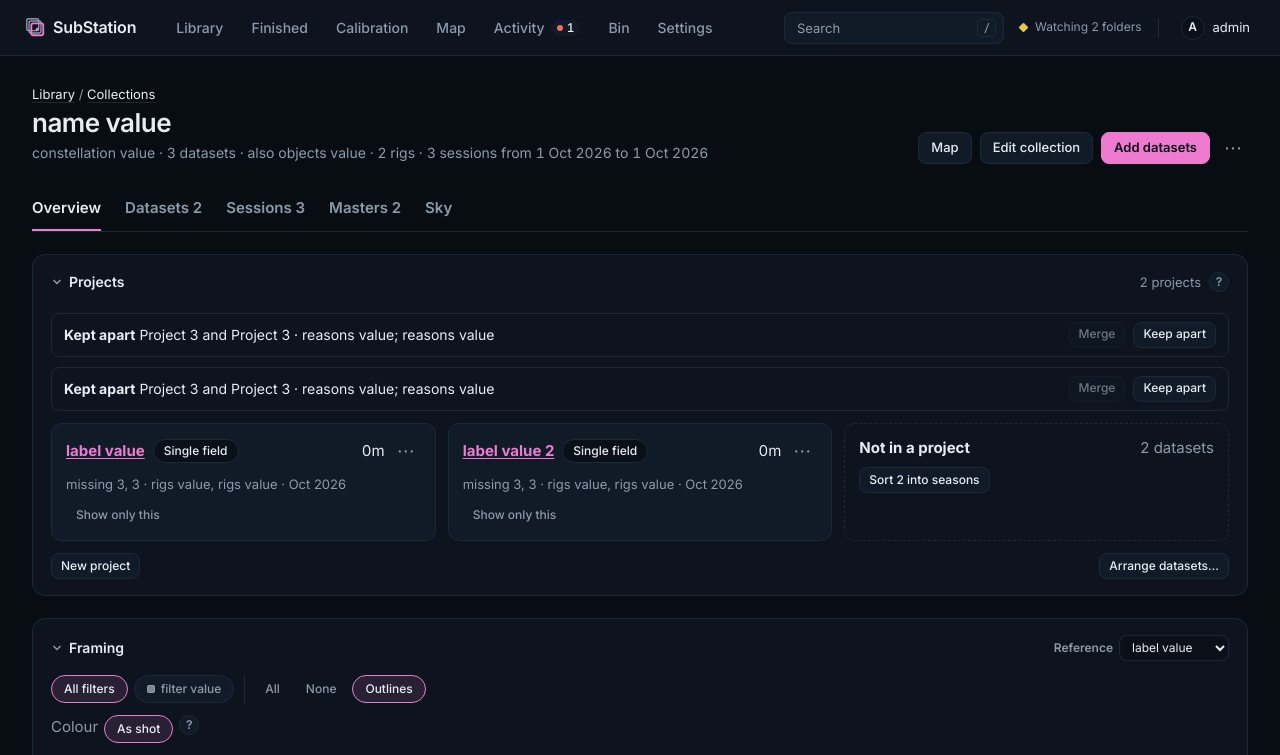
Test: the collection menu › is refused while files move, with the reason
This screenshot has width=1280, height=755.
Step 1. Click the button named "More for collection " → (1233, 148), box [1218,133,1248,163]
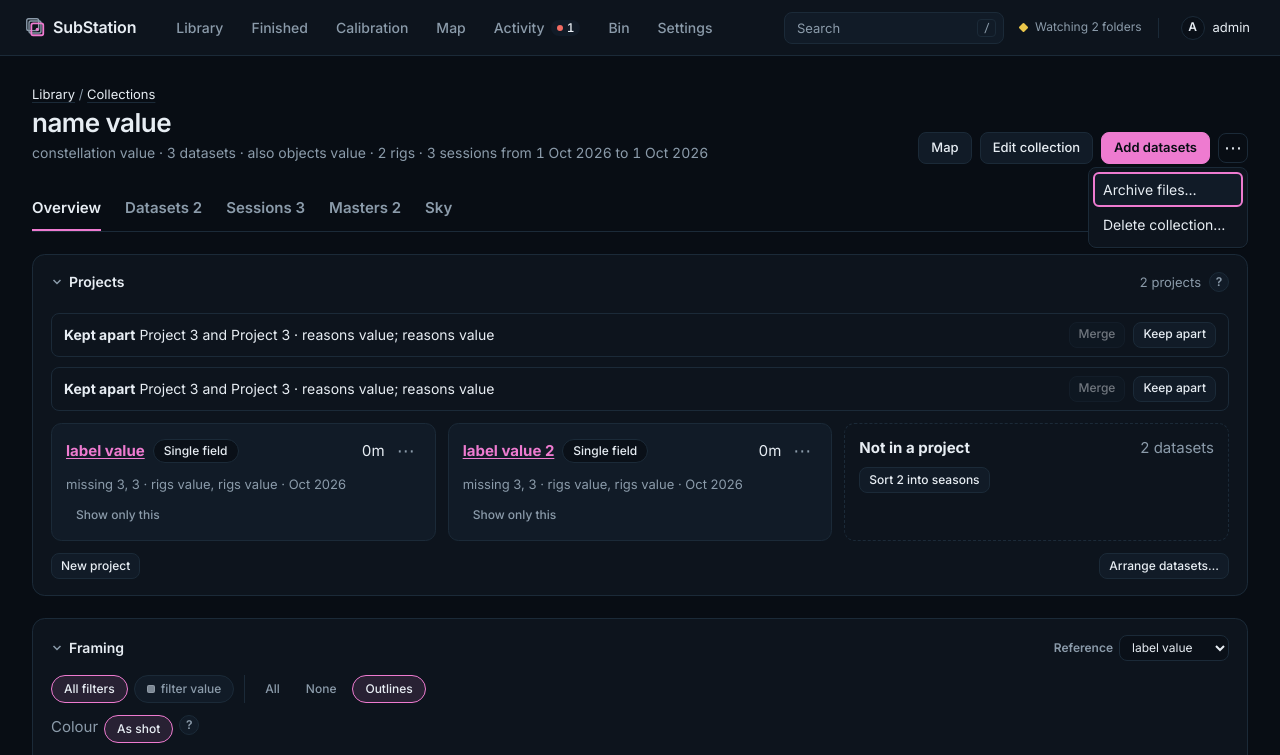
Step 2. Click the menu item "Delete collection…" → (1168, 225), box [1093,207,1243,243]
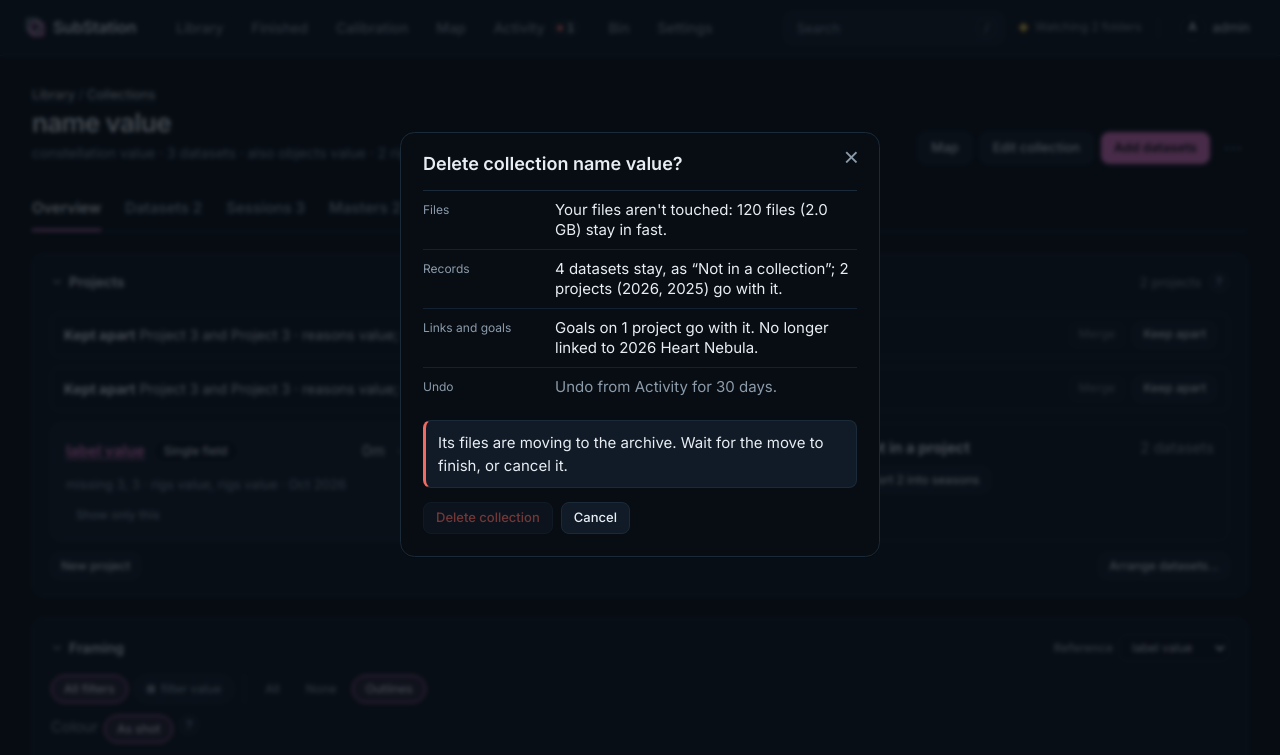
Result: the 1st message shows "Its files are moving" at [438,432,824,475]
Result: the button "Delete collection" is disabled at [423,502,553,534]
